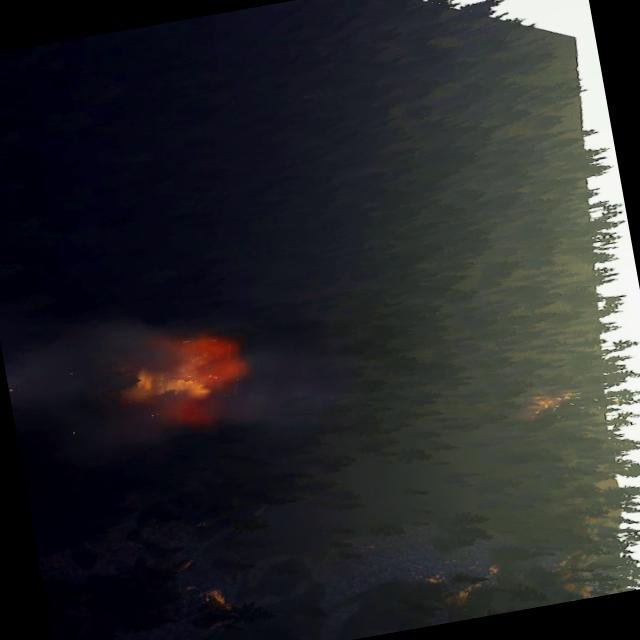fire: (116, 332, 248, 417), (524, 389, 574, 414)
smoke: (0, 288, 258, 485)
